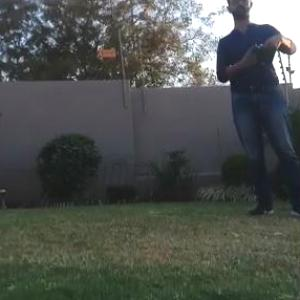follow: (210, 0, 299, 222)
